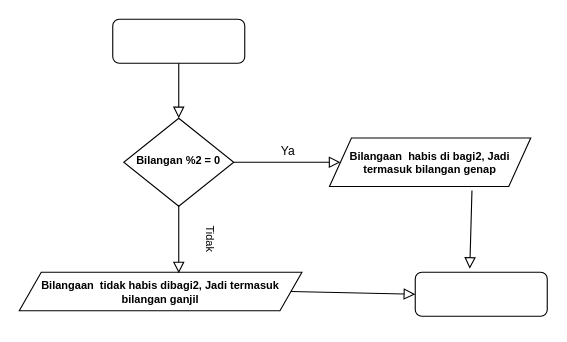
Some shapes in this 567 by 342 pixel diagram are drawn without their labels. Each missing label, with the centre of its shape:
Mulai: pixel 178 40
Selesai: pixel 480 293
